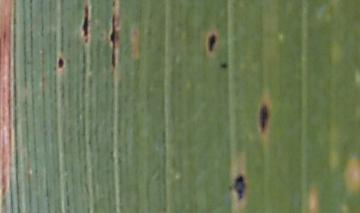tarspot: (109, 14, 117, 67), (81, 4, 90, 37), (234, 175, 245, 202), (259, 103, 269, 132), (207, 34, 217, 52), (57, 58, 66, 69), (220, 62, 228, 71), (110, 1, 117, 8)
